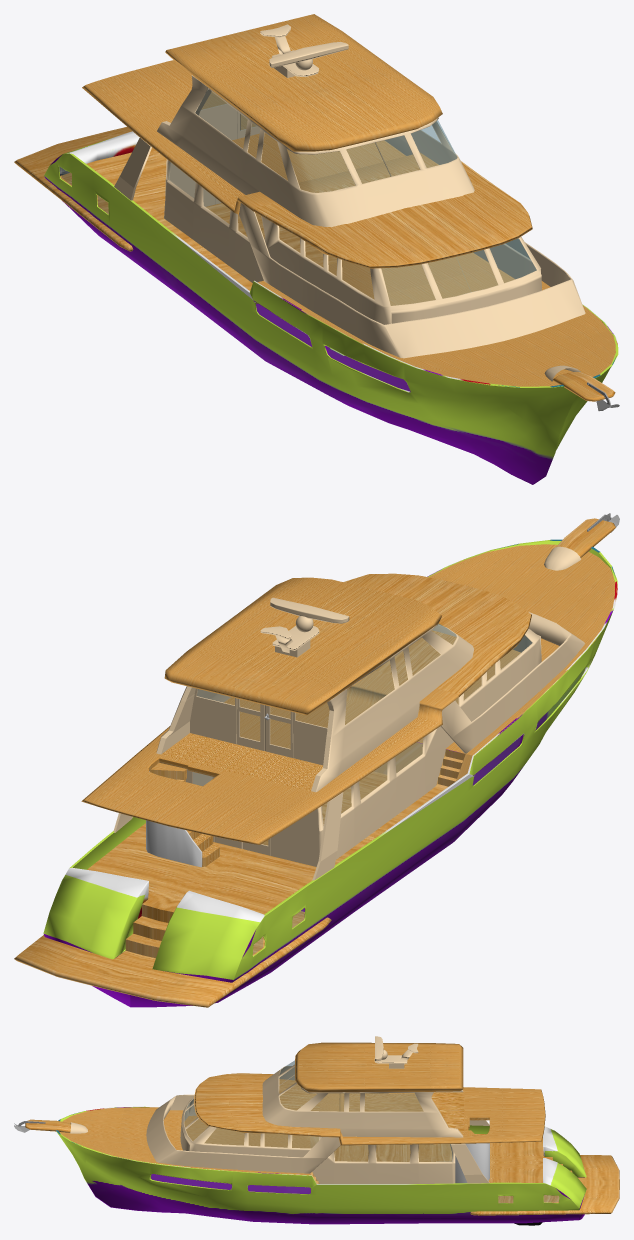
Rendered from Bateau.glb.
3 views of the same model, one above another, from view 1: azimuth 30°, elevation 25°; view 2: azimuth 150°, elevation 25°; view 3: azimuth 270°, elevation 25° (orthographic). The views are drawn at different scales.
Visible parts, largest first — view 1: Hull, Cabin, FloorSecond, FloorTop, CabinTop, FloorFirst, TopCabinWindows, Cabin.Windows, HullBottom, Platform, BackWalls, RadarAssy (+2 smaller); view 2: Hull, FloorSecond, FloorTop, Cabin, HullBottom, FloorFirst, CabinTop, BackWalls, Platform, TopCabinWindows, RadarAssy, Cabin.Windows (+4 smaller); view 3: Hull, FloorSecond, Cabin, FloorTop, FloorFirst, CabinTop, HullBottom, Cabin.Windows, Platform, TopCabinWindows, WindowsHull, StairsCover (+2 smaller).
Part boxes in pixels (x1,y1,x2,y2): Hull: (44,131,618,484); Cabin: (114,138,585,381); FloorSecond: (82,60,532,268); FloorTop: (165,14,442,151); CabinTop: (157,75,474,227); FloorFirst: (257,252,617,386); TopCabinWindows: (195,89,456,192); Cabin.Windows: (168,161,536,305); HullBottom: (86,147,343,303); Platform: (14,127,133,251); BackWalls: (169,92,260,206); RadarAssy: (260,24,348,77); Hull: (43,539,617,1007); FloorSecond: (81,573,531,844); FloorTop: (164,577,441,715); Cabin: (113,546,584,880); HullBottom: (87,742,472,958); FloorFirst: (417,544,616,755); CabinTop: (156,624,474,792); BackWalls: (186,688,329,866); Platform: (14,911,331,1007); TopCabinWindows: (345,623,456,724); RadarAssy: (260,597,349,657); Cabin.Windows: (322,635,531,823); Hull: (56,1106,586,1224); FloorSecond: (194,1073,545,1145); Cabin: (70,1094,489,1183); FloorTop: (295,1042,463,1092); FloorFirst: (60,1107,310,1176); CabinTop: (262,1064,463,1137); HullBottom: (310,1134,572,1183); Cabin.Windows: (184,1099,452,1161); Platform: (470,1155,619,1215); TopCabinWindows: (279,1060,422,1111); WindowsHull: (151,1174,558,1202); StairsCover: (455,1143,489,1183).
Bounding box in the file's own units: 5.64 × 7.28 × 22.48.
Materials: 7 (2 with a texture image).
